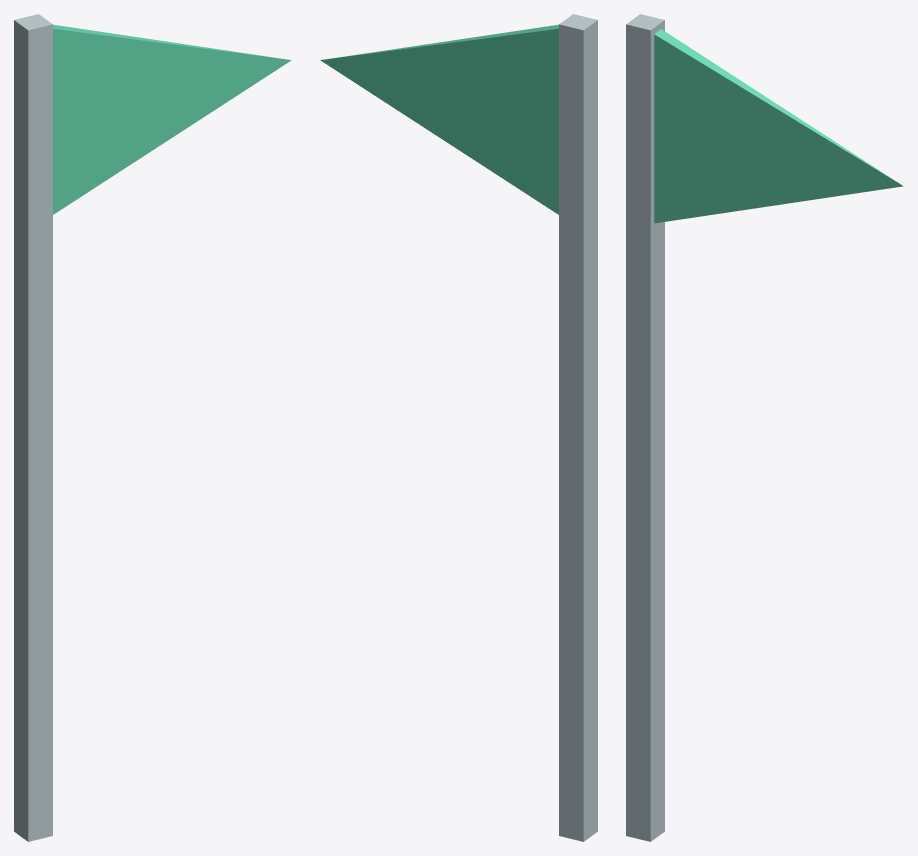
Rendered from flag_green.glb.
The picture shows the model from 3 angles, left to right: view 1: azimuth 30°, elevation 25°; view 2: azimuth 150°, elevation 25°; view 3: azimuth 330°, elevation 25°; orthographic projection.
Parts seen in each view (by area): view 1: flag_green; view 2: flag_green; view 3: flag_green.
Part boxes in pixels (x1=…): flag_green: x1=14, y1=14, x2=291, y2=841; flag_green: x1=320, y1=14, x2=597, y2=841; flag_green: x1=626, y1=14, x2=903, y2=841.
Size of the model in its own units: 0.3666 by 1.05 by 0.0333.
